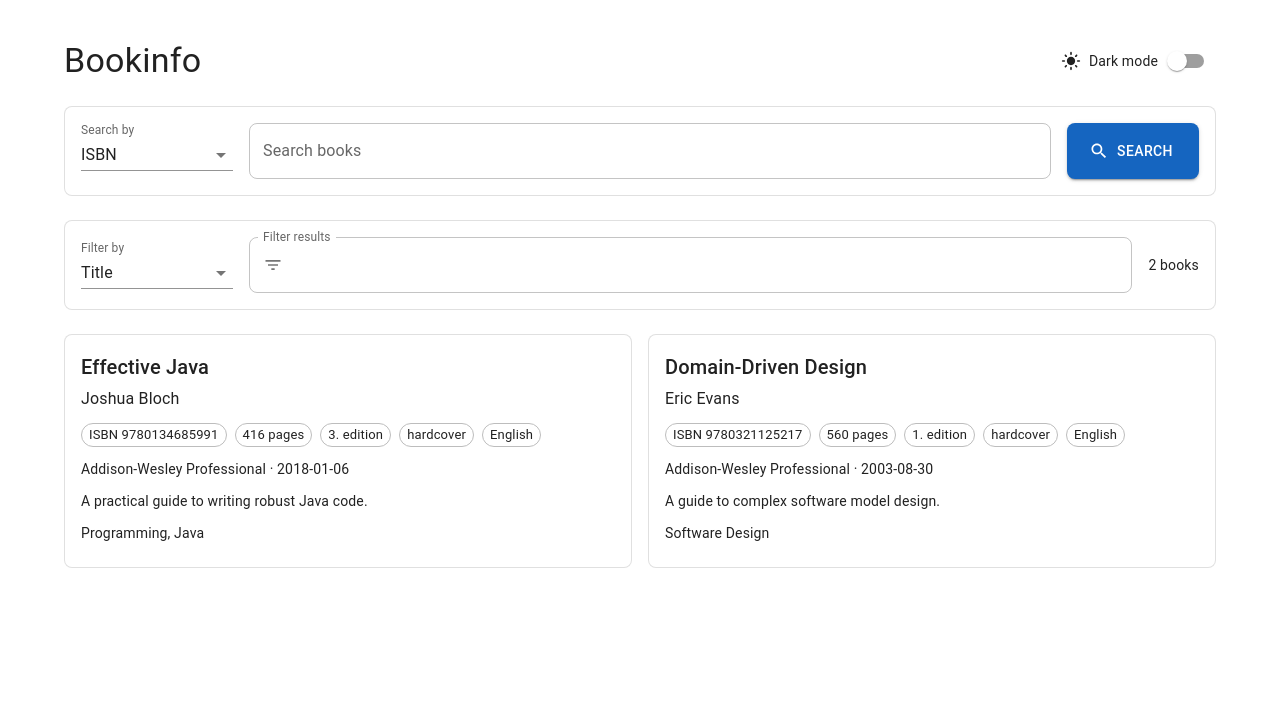
it: App › searches by title and shows matching books
expect the heading "Effective Java" is shown: met, box [81,355,209,379]
Select "Title" in the dropdown labelled "Search by". click: {"x": 157, "y": 155}
box: [81,139,233,171]
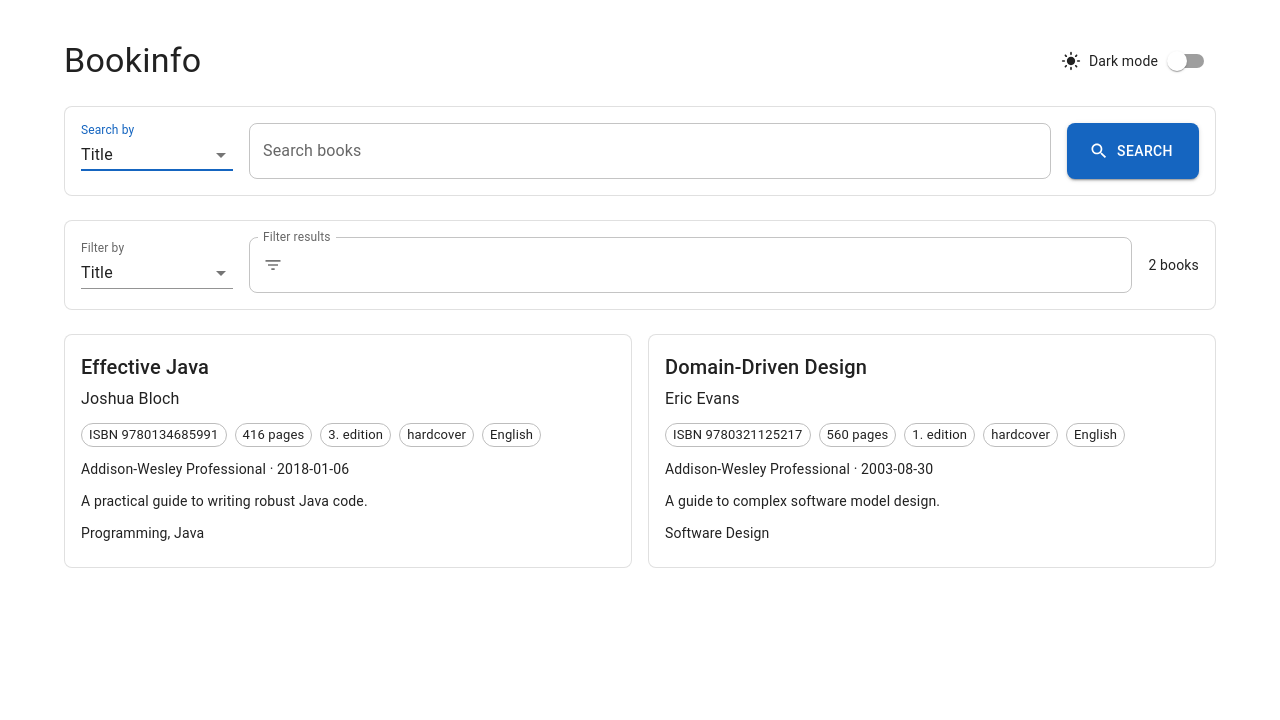
Type "domain" into the field labelled "Search books". click: {"x": 650, "y": 151}
box: [249,123,1051,179]
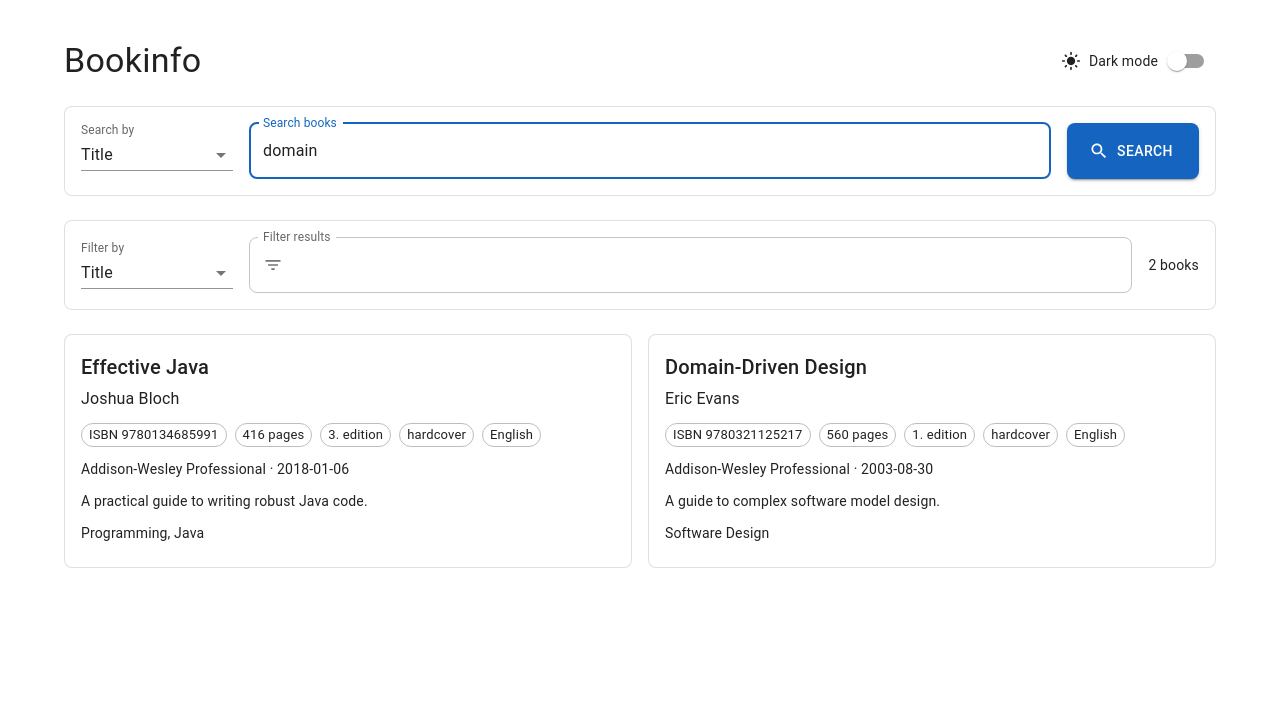
Click the button "Search". click: {"x": 1133, "y": 151}
box: [1067,123,1199,179]
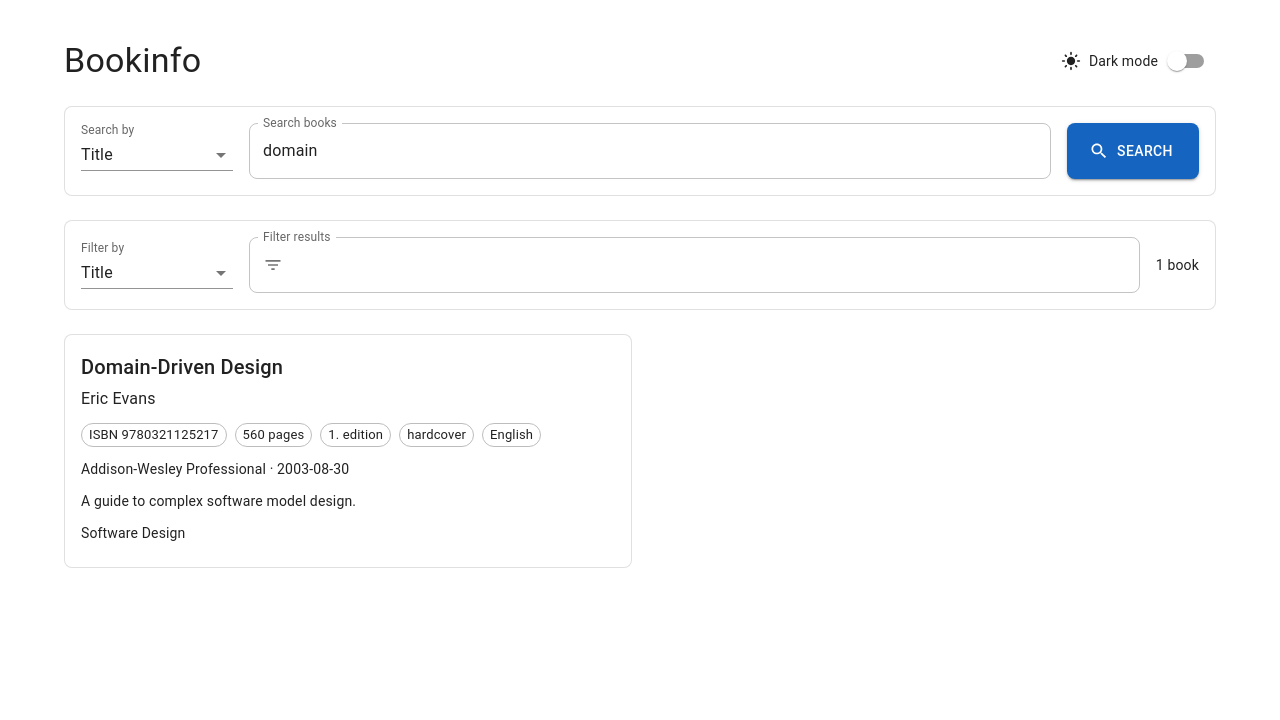
expect the heading "Domain-Driven Design" is shown: met, box [81,355,283,379]
expect the heading "Effective Java" is gone: met
